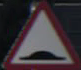Speed Breaker ahead: (9, 5, 67, 64)
